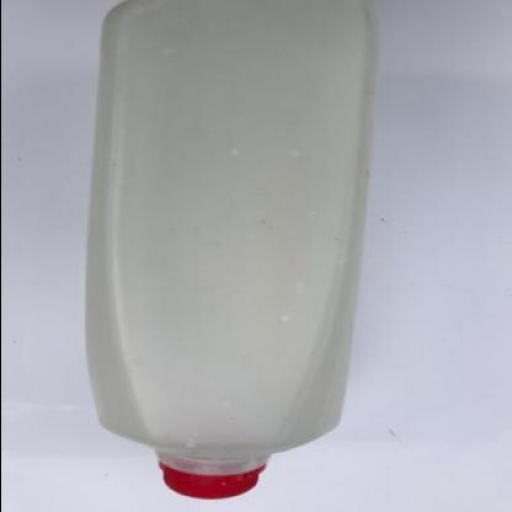plastic: (86, 1, 378, 500), (158, 464, 264, 501)
